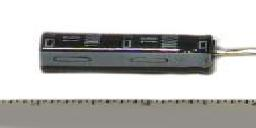Electrolytic-Capacitor: (37, 29, 228, 80)
